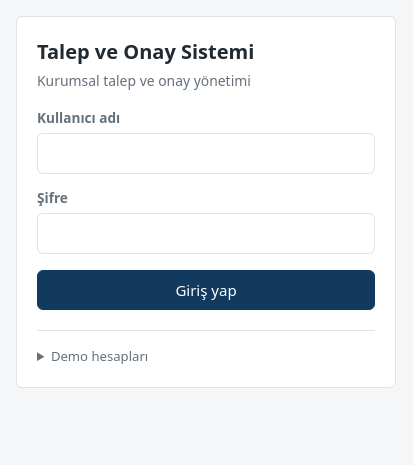
Test: Giris akisi › yanlis sifrede hata mesaji gosterir ve token saklamaz
Type "ayse.yilmaz" into the field labelled "Kullanıcı adı". click: (206,153)
box: [37,133,375,174]
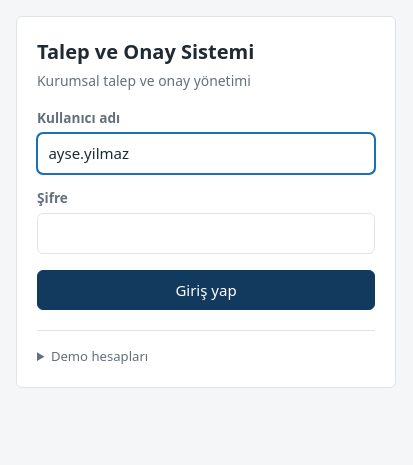
Type "yanlis" into the password field labelled "Şifre". click: (206,233)
box: [37,213,375,254]
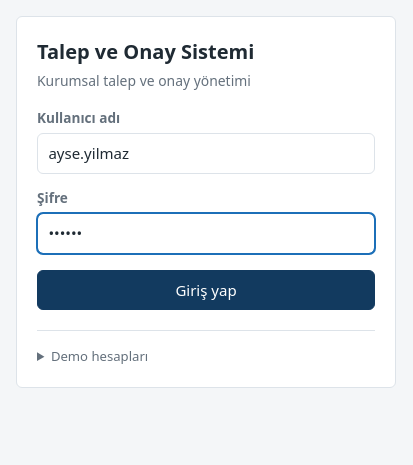
Click the button "Giriş yap". click: (206,290)
box: [37,270,375,310]
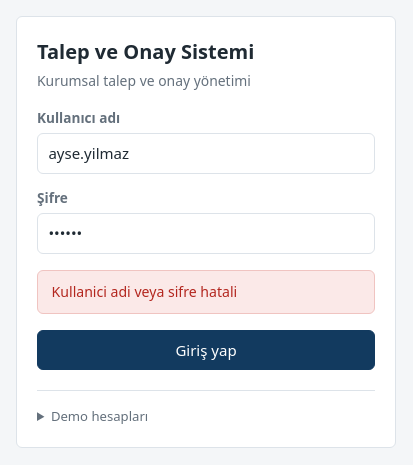
Expected: the message reads "Kullanici adi veya sifre hatali", [52,282,237,301]
